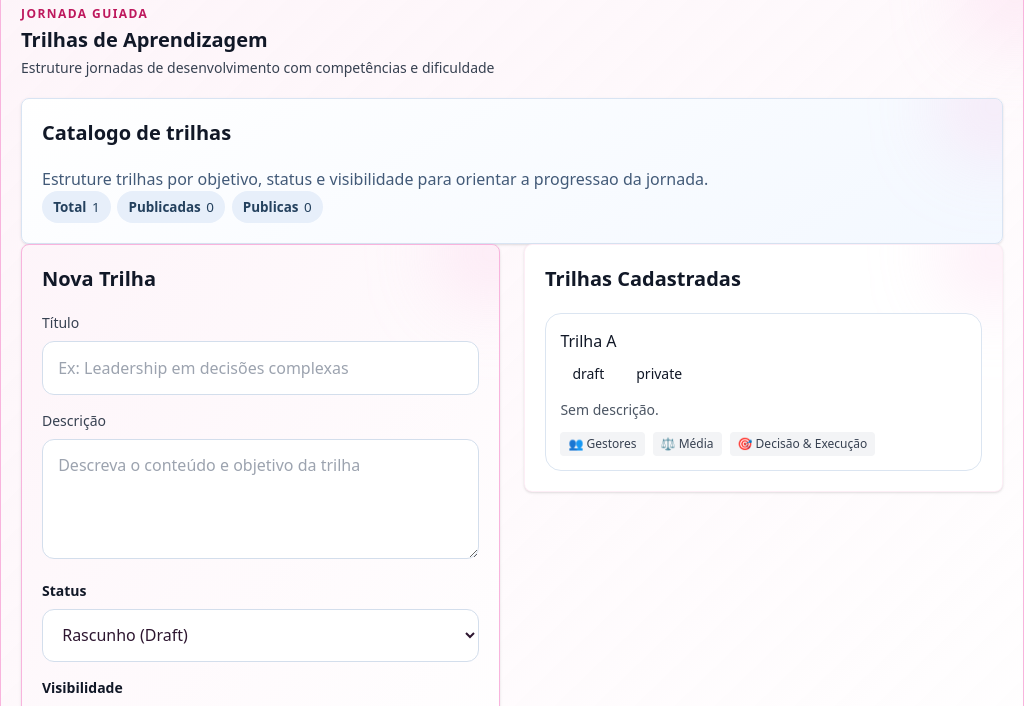
Scenario: TracksPage › carrega trilhas e cria nova trilha
Expected: the heading "Trilha A" is shown, [560,330,617,352]
Step 1. Type "Trilha B" into the field labelled "Título" → point(260, 368), box [42,341,479,394]
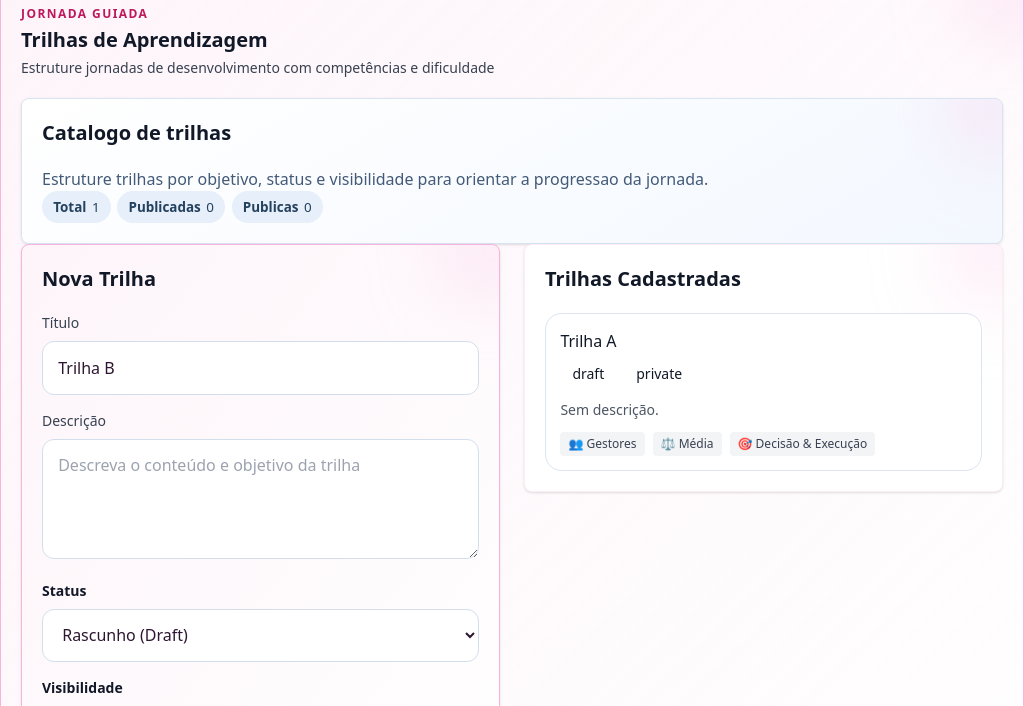
Step 2. Type "Descrição B" into the text box labelled "Descrição" → point(260, 498), box [42,438,479,558]
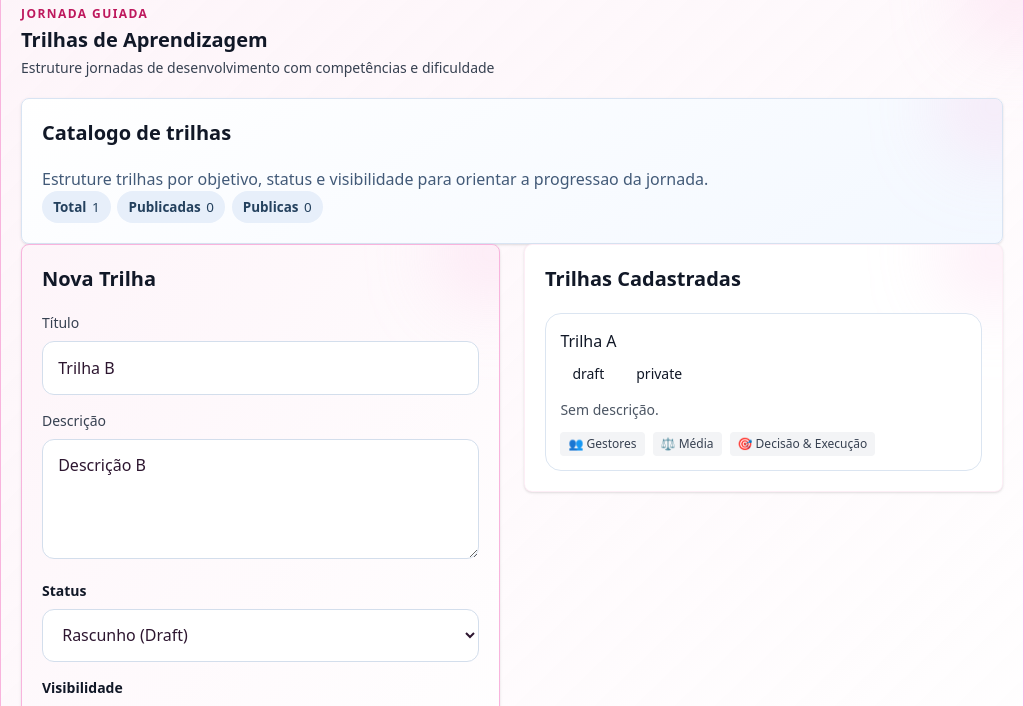
Step 3. Select "Publicado" in the dropdown labelled "Status" → point(260, 635), box [42,608,479,662]
(page scrolled)
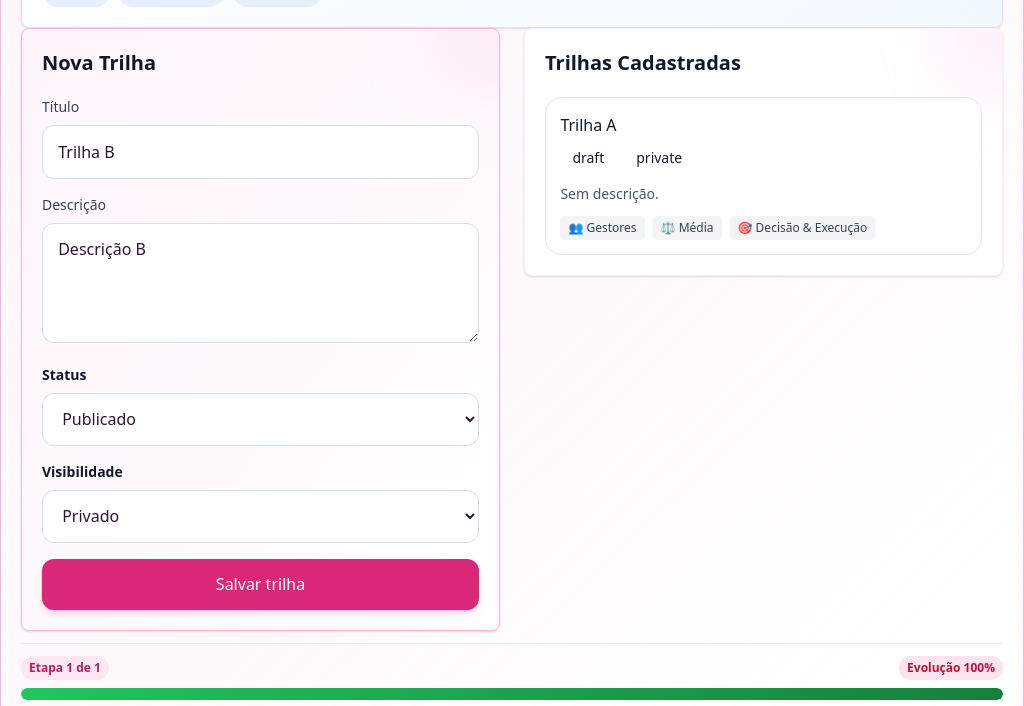
Step 4. Select "Público" in the dropdown labelled "Visibilidade" → point(260, 516), box [42,490,479,543]
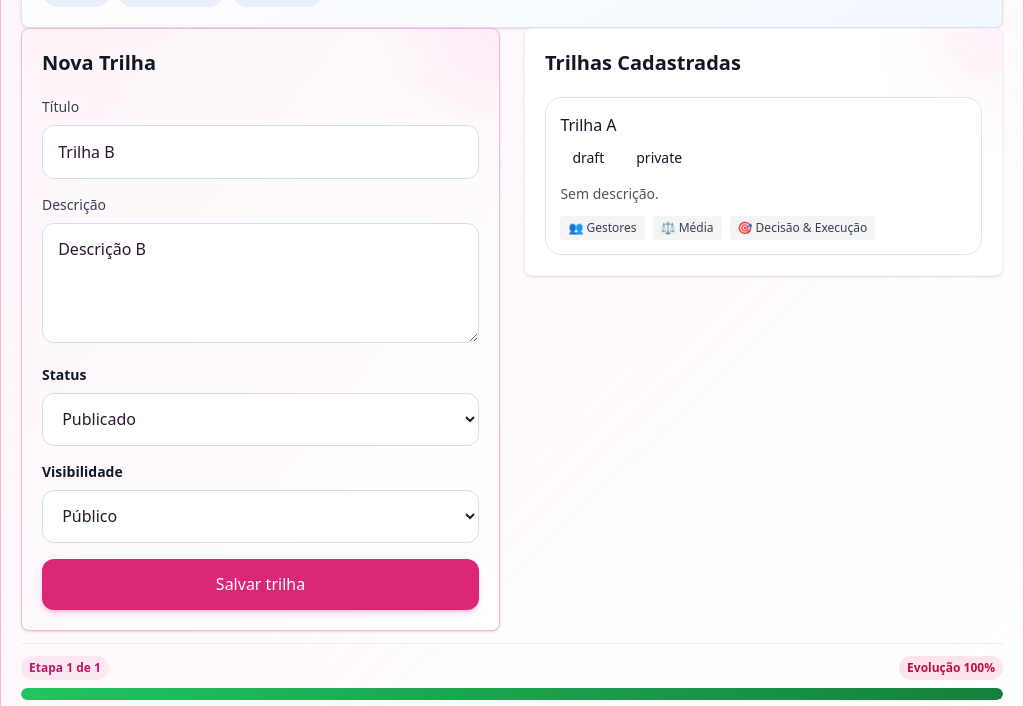
Step 5. Click the button "Salvar trilha" → point(260, 584), box [42,559,479,610]
(page scrolled)
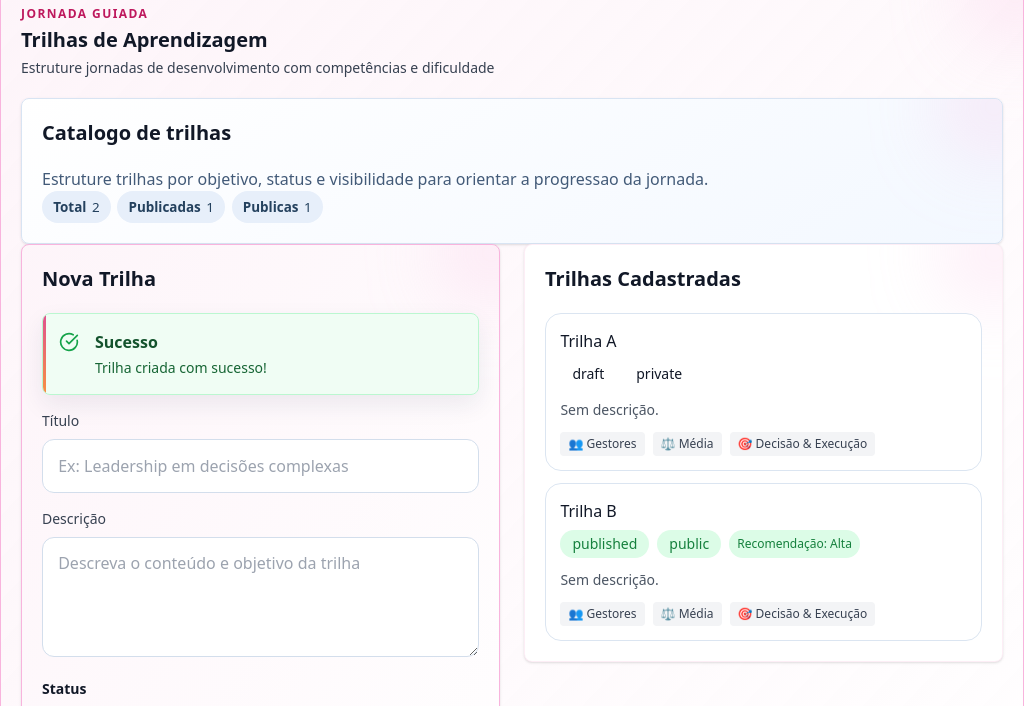
Expected: the heading "Trilha B" is shown, [560,500,617,522]
